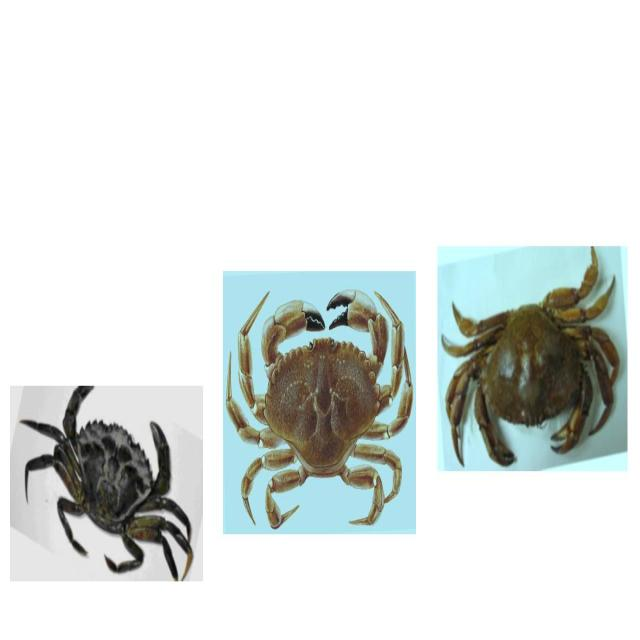egc: (10, 385, 202, 584)
jonah_crab: (222, 272, 412, 534)
rock_crab: (437, 248, 625, 463)
